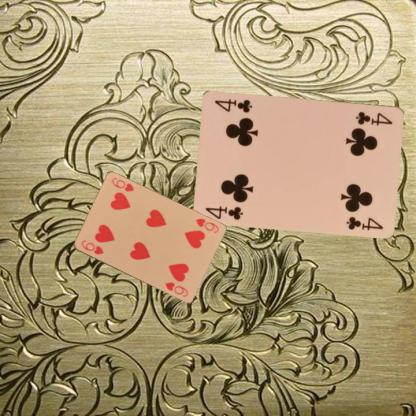4c: (353, 108, 394, 126), (203, 203, 244, 221)
6h: (78, 237, 104, 256), (193, 216, 220, 234)
